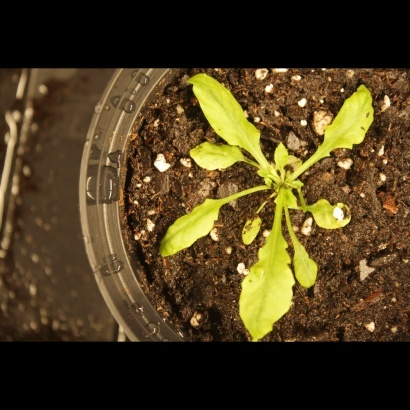leaf: (184, 71, 265, 152), (236, 230, 293, 345), (309, 76, 379, 166), (157, 194, 235, 260), (178, 139, 252, 178), (284, 230, 325, 288), (307, 193, 356, 237), (239, 204, 266, 248), (270, 141, 298, 172)
